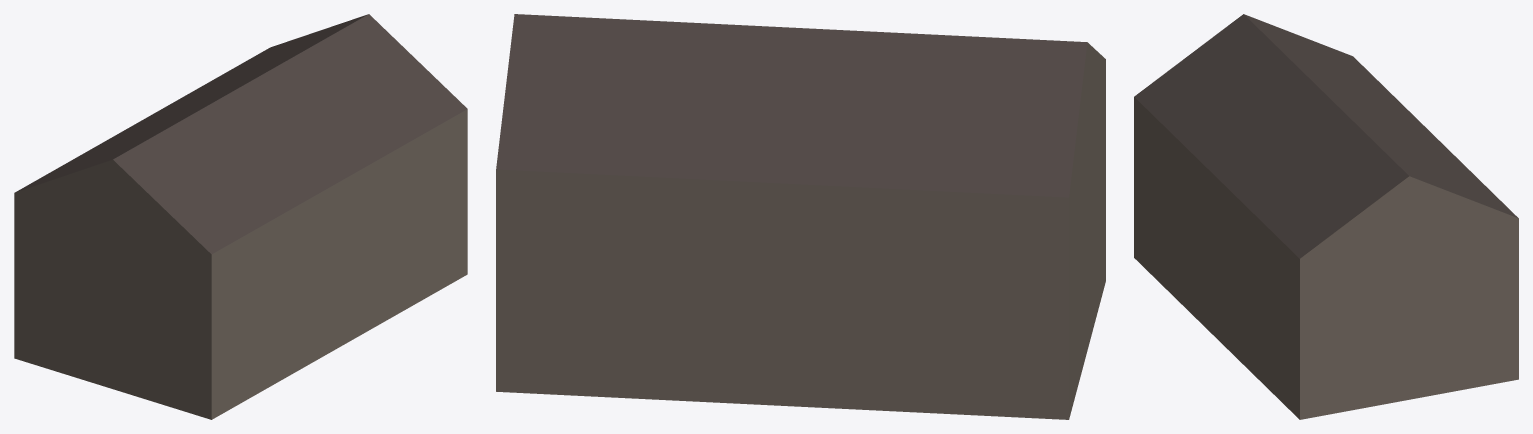
3 renders of one model, left to right at view 1: azimuth 30°, elevation 25°; view 2: azimuth 150°, elevation 25°; view 3: azimuth 270°, elevation 25°, orthographic. The views are drawn at different scales.
Parts seen in each view (by area): view 1: HP-w859086197; view 2: HP-w859086197; view 3: HP-w859086197.
Boxes of the visible parts, box(x1,y1,x2,y2) form: HP-w859086197: box(14, 14, 467, 419); HP-w859086197: box(496, 14, 1105, 419); HP-w859086197: box(1134, 14, 1518, 419).
Size of the model in its own units: 24.27 by 12.49 by 19.48.
